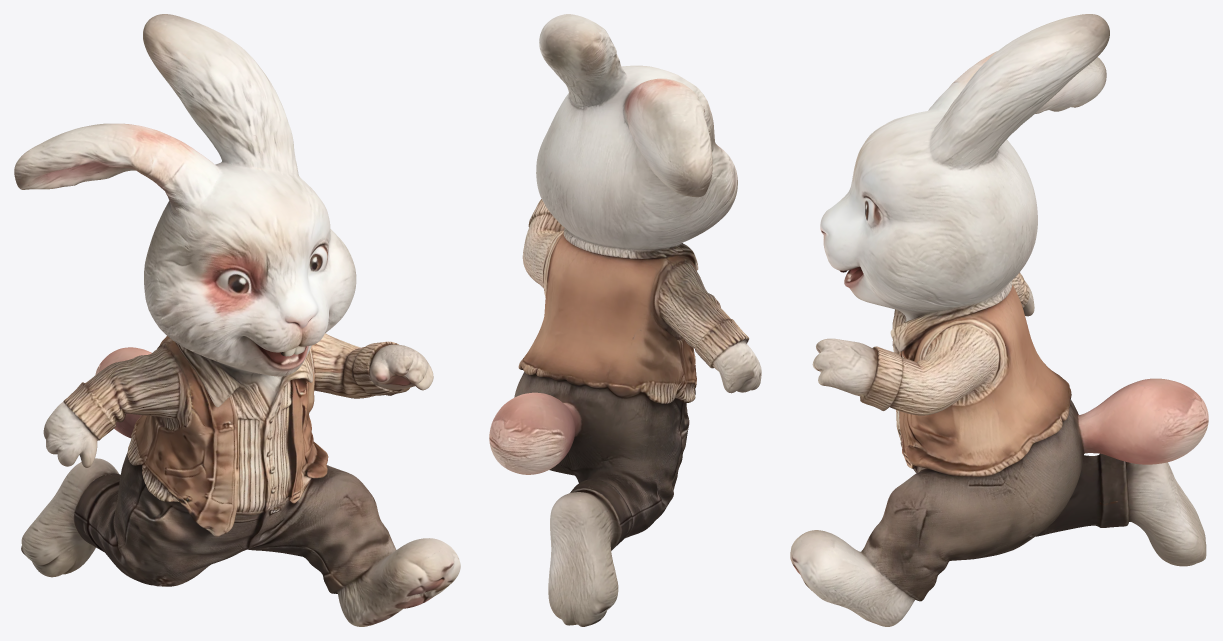
The model's file is conejocorre.glb.
The picture shows the model from 3 angles, left to right: view 1: azimuth 30°, elevation 25°; view 2: azimuth 150°, elevation 25°; view 3: azimuth 270°, elevation 25°; orthographic projection. The views are drawn at different scales.
Parts seen in each view (by area): view 1: model; view 2: model; view 3: model.
Boxes of the visible parts, box(x1,y1,x2,y2) form: model: box(14, 14, 460, 626); model: box(489, 14, 761, 626); model: box(790, 14, 1208, 626).
Bounding box in the file's own units: 1.1 × 1.89 × 1.25.
Materials: 1 (1 with a texture image).
